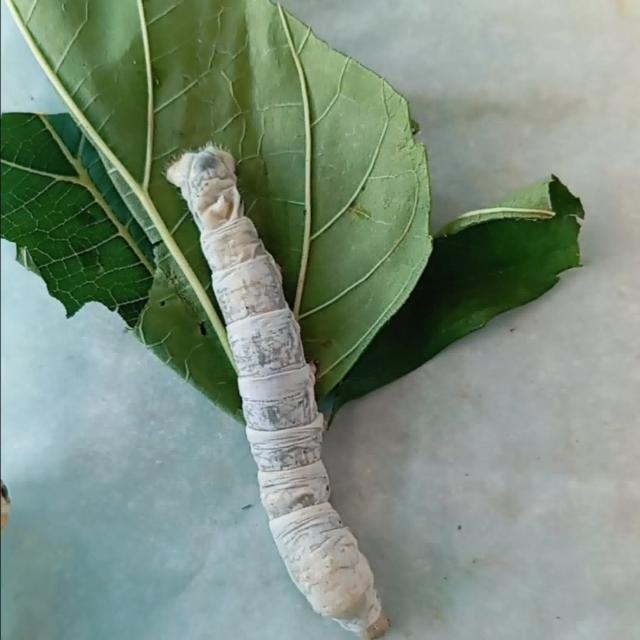Grasserie: (163, 129, 400, 640)
